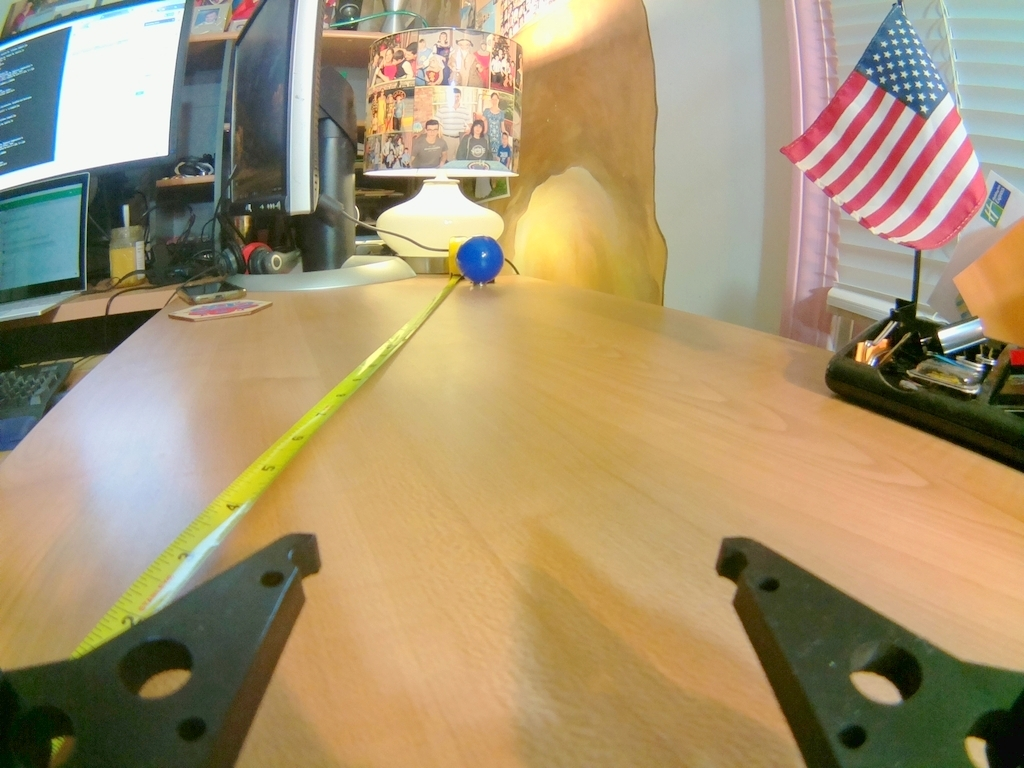ball: (456, 233, 505, 285)
